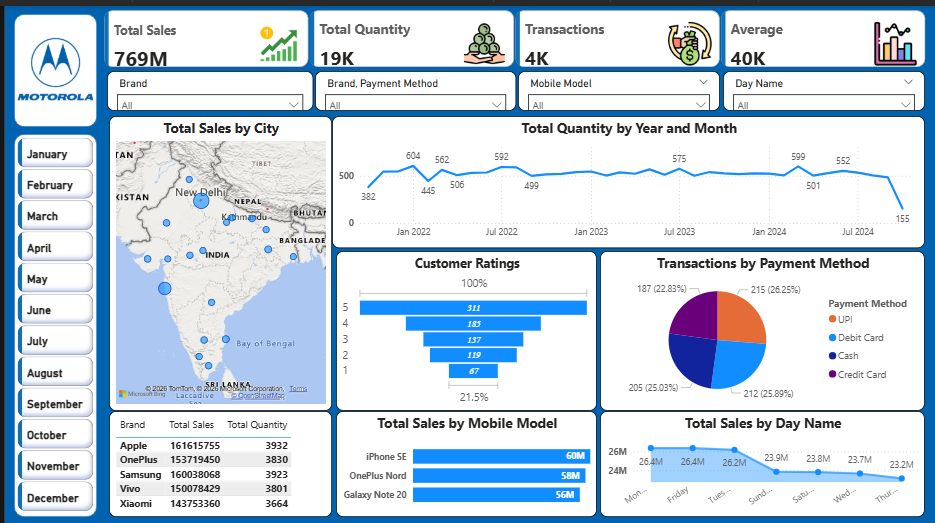

The page's visual inventory and layout, read from the dashboard file:
{"tool":"powerbi","page":{"name":"BI Dashboard","canvas":[1280,720],"ordinal":0},"visuals":[{"type":"shape","box":[12.4,11,114.2,155.5],"z":0},{"type":"image","box":[12.4,11,114.2,151.4],"z":1},{"type":"shape","box":[12.4,176.2,114.2,527.1],"z":2},{"type":"advancedSlicerVisual","fields":{"Values":["Mobile Sales Data.Date.Variation.Date Hierarchy.Month"]},"box":[12.4,176.2,114.2,534],"z":3},{"type":"cardVisual","fields":{"Data":["Mobile Sales Data.Total Sales","Mobile Sales Data.Total Quantity","Mobile Sales Data.Transactions","Mobile Sales Data.Average"]},"box":[126.6,0,1153.4,89.5],"z":4},{"type":"map","fields":{"Category":["Mobile Sales Data.City"],"Size":["Mobile Sales Data.Total Sales"]},"box":[143.1,151.4,306.9,406],"z":5},{"type":"lineChart","fields":{"Y":["Mobile Sales Data.Total Quantity"],"Category":["Mobile Sales Data.Date.Variation.Date Hierarchy.Year","Mobile Sales Data.Date.Variation.Date Hierarchy.Month","Mobile Sales Data.Date.Variation.Date Hierarchy.Day"]},"box":[450.1,151.4,816.2,181.7],"z":6},{"type":"funnel","title":"Customer Ratings","fields":{"Category":["Mobile Sales Data.Customer Ratings"],"Y":["CountNonNull(Mobile Sales Data.Customer Ratings)"]},"box":[455.6,337.2,359.2,220.2],"z":7},{"type":"pieChart","fields":{"Category":["Mobile Sales Data.Payment Method"],"Y":["Mobile Sales Data.Transactions"]},"box":[818.9,337.2,447.3,220.2],"z":8},{"type":"clusteredBarChart","fields":{"Category":["Mobile Sales Data.Mobile Model"],"Y":["Mobile Sales Data.Total Sales"]},"box":[455.6,557.4,359.2,145.9],"z":9},{"type":"areaChart","fields":{"Category":["Mobile Sales Data.Day Name"],"Y":["Mobile Sales Data.Total Sales"]},"box":[818.9,557.4,447.3,145.9],"z":10},{"type":"tableEx","fields":{"Values":["Mobile Sales Data.Brand","Mobile Sales Data.Total Sales","Mobile Sales Data.Total Quantity"]},"box":[143.1,557.4,306.9,145.9],"z":11},{"type":"slicer","fields":{"Values":["Mobile Sales Data.Brand"]},"box":[140.4,89.5,283.5,55.1],"z":12},{"type":"slicer","fields":{"Values":["Mobile Sales Data.Brand","Mobile Sales Data.Payment Method"]},"box":[426.7,89.5,276.6,55.1],"z":13},{"type":"slicer","fields":{"Values":["Mobile Sales Data.Mobile Model"]},"box":[706.1,89.5,278,55.1],"z":14},{"type":"slicer","fields":{"Values":["Mobile Sales Data.Day Name"]},"box":[988.2,89.5,278,55.1],"z":15}]}

Visuals, with their boxes in screenshot pixels (x1, y1, x2, y2), scaled from the page's 1280x720 canvas onto the 935x523 screenshot:
shape: l=9, t=8, r=92, b=121
image: l=9, t=8, r=92, b=118
shape: l=9, t=128, r=92, b=511
advancedSlicerVisual - Mobile Sales Data.Date.Variation.Date Hierarchy.Month: l=9, t=128, r=92, b=516
cardVisual - Mobile Sales Data.Total Sales x Mobile Sales Data.Total Quantity: l=92, t=0, r=934, b=65
map - Mobile Sales Data.City x Mobile Sales Data.Total Sales: l=105, t=110, r=329, b=405
lineChart - Mobile Sales Data.Total Quantity x Mobile Sales Data.Date.Variation.Date Hierarchy.Year: l=329, t=110, r=925, b=242
"Customer Ratings" funnel: l=333, t=245, r=595, b=405
pieChart - Mobile Sales Data.Payment Method x Mobile Sales Data.Transactions: l=598, t=245, r=925, b=405
clusteredBarChart - Mobile Sales Data.Mobile Model x Mobile Sales Data.Total Sales: l=333, t=405, r=595, b=511
areaChart - Mobile Sales Data.Day Name x Mobile Sales Data.Total Sales: l=598, t=405, r=925, b=511
tableEx - Mobile Sales Data.Brand x Mobile Sales Data.Total Sales: l=105, t=405, r=329, b=511
slicer - Mobile Sales Data.Brand: l=103, t=65, r=310, b=105
slicer - Mobile Sales Data.Brand x Mobile Sales Data.Payment Method: l=312, t=65, r=514, b=105
slicer - Mobile Sales Data.Mobile Model: l=516, t=65, r=719, b=105
slicer - Mobile Sales Data.Day Name: l=722, t=65, r=925, b=105
